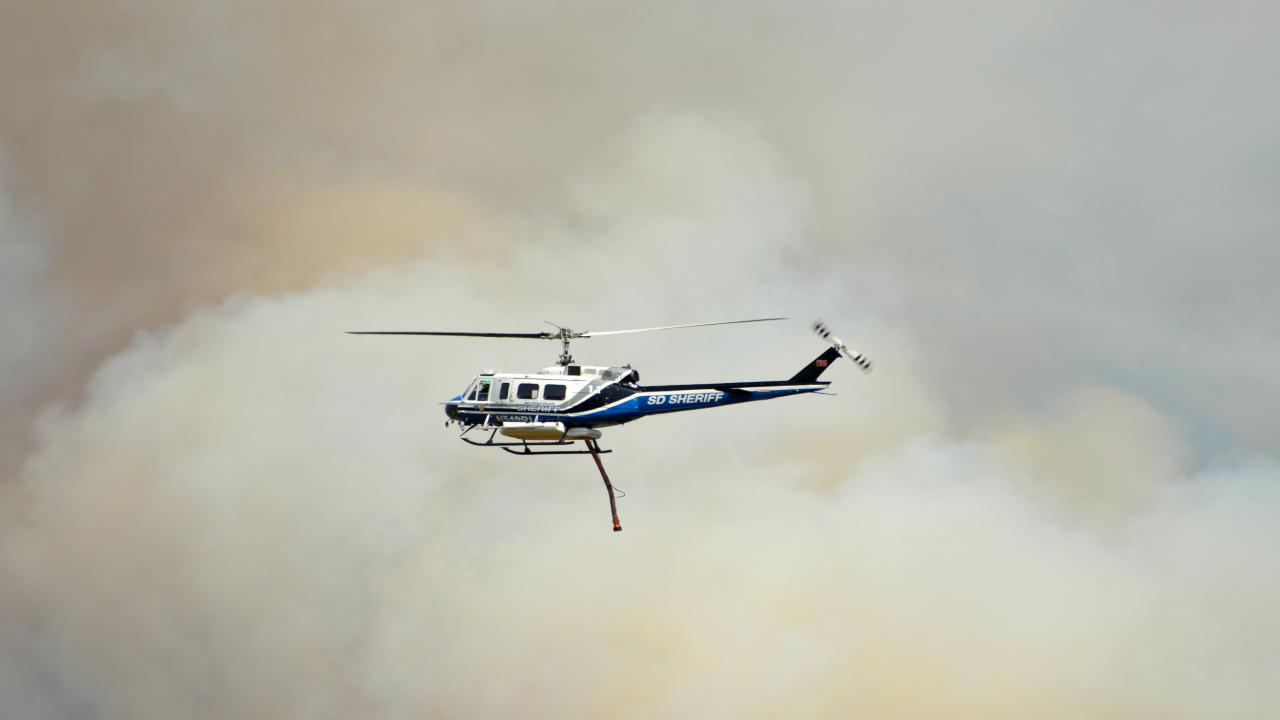Helicopter: (330, 268, 890, 492)
